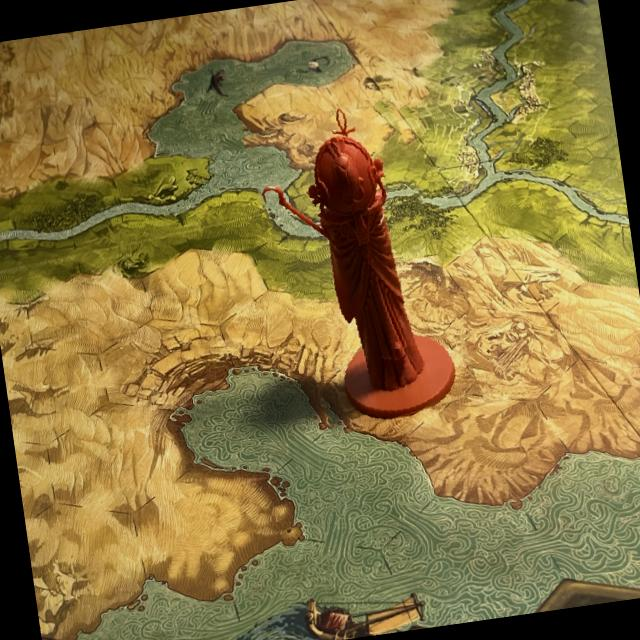amon: (251, 92, 472, 437)
